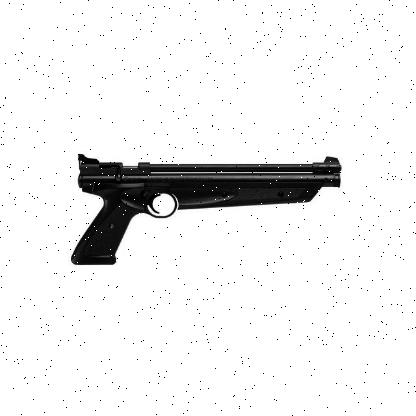gun: (67, 152, 340, 272)
